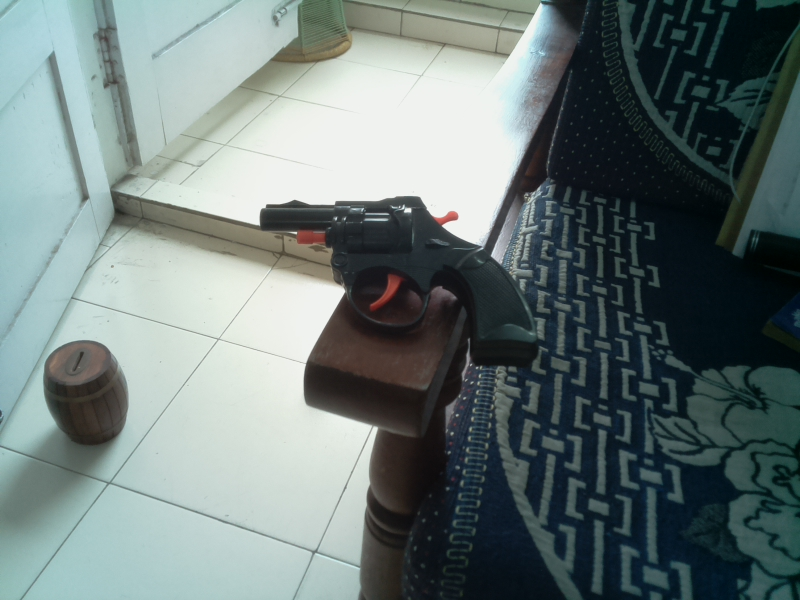Gun: (253, 191, 545, 369)
